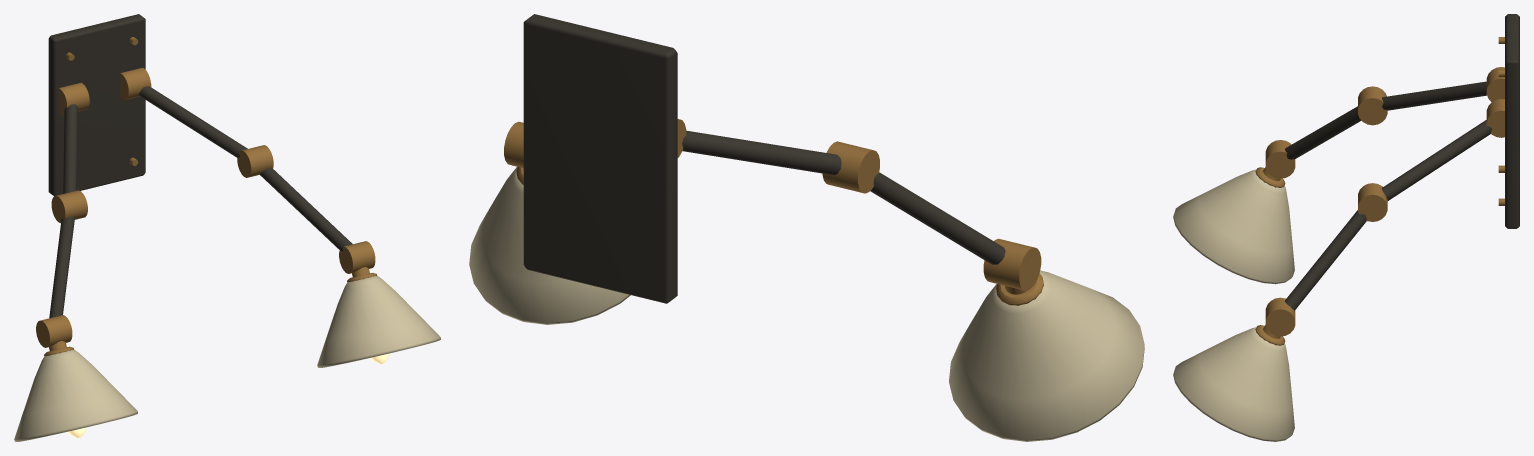
The model's file is rpg-mansion-twin-articulated-wall-reading-lamp-01.glb.
3 views of the same model, side by side, from view 1: azimuth 30°, elevation 25°; view 2: azimuth 150°, elevation 25°; view 3: azimuth 270°, elevation 25° (orthographic). The views are drawn at different scales.
Visible parts, largest first — view 1: rpg-mansion-twin-articulated-wall-reading-lamp-01; view 2: rpg-mansion-twin-articulated-wall-reading-lamp-01; view 3: rpg-mansion-twin-articulated-wall-reading-lamp-01.
Part boxes in pixels (left/top/right/bottom): rpg-mansion-twin-articulated-wall-reading-lamp-01: left=14, top=14, right=440, bottom=441; rpg-mansion-twin-articulated-wall-reading-lamp-01: left=469, top=14, right=1144, bottom=441; rpg-mansion-twin-articulated-wall-reading-lamp-01: left=1173, top=14, right=1519, bottom=441.
Bounding box in the file's own units: 0.8453 × 0.5757 × 0.5761.
